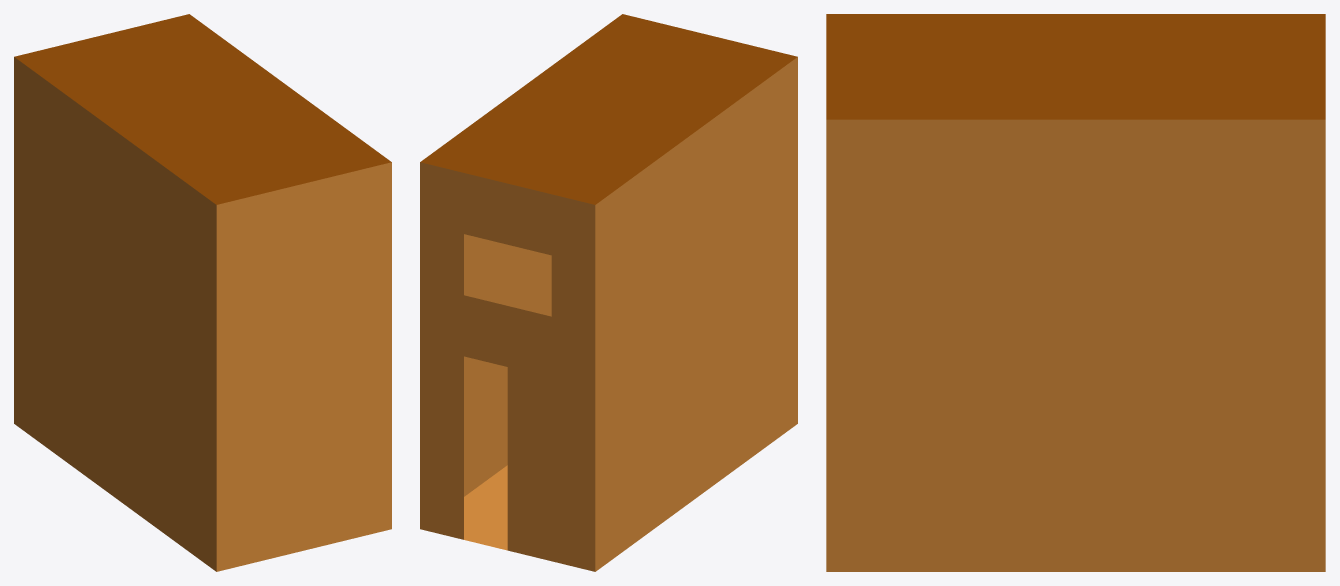
The model's file is orange.gltf.
3 views of the same model, side by side, from view 1: azimuth 30°, elevation 25°; view 2: azimuth 150°, elevation 25°; view 3: azimuth 270°, elevation 25° (orthographic). The views are drawn at different scales.
Parts seen in each view (by area): view 1: Cube; view 2: Cube; view 3: Cube.
Part boxes in pixels (left/top/right/bottom): Cube: left=14, top=14, right=391, bottom=571; Cube: left=420, top=14, right=797, bottom=571; Cube: left=826, top=14, right=1325, bottom=571.
Bounding box in the file's own units: 2 × 4 × 4.
